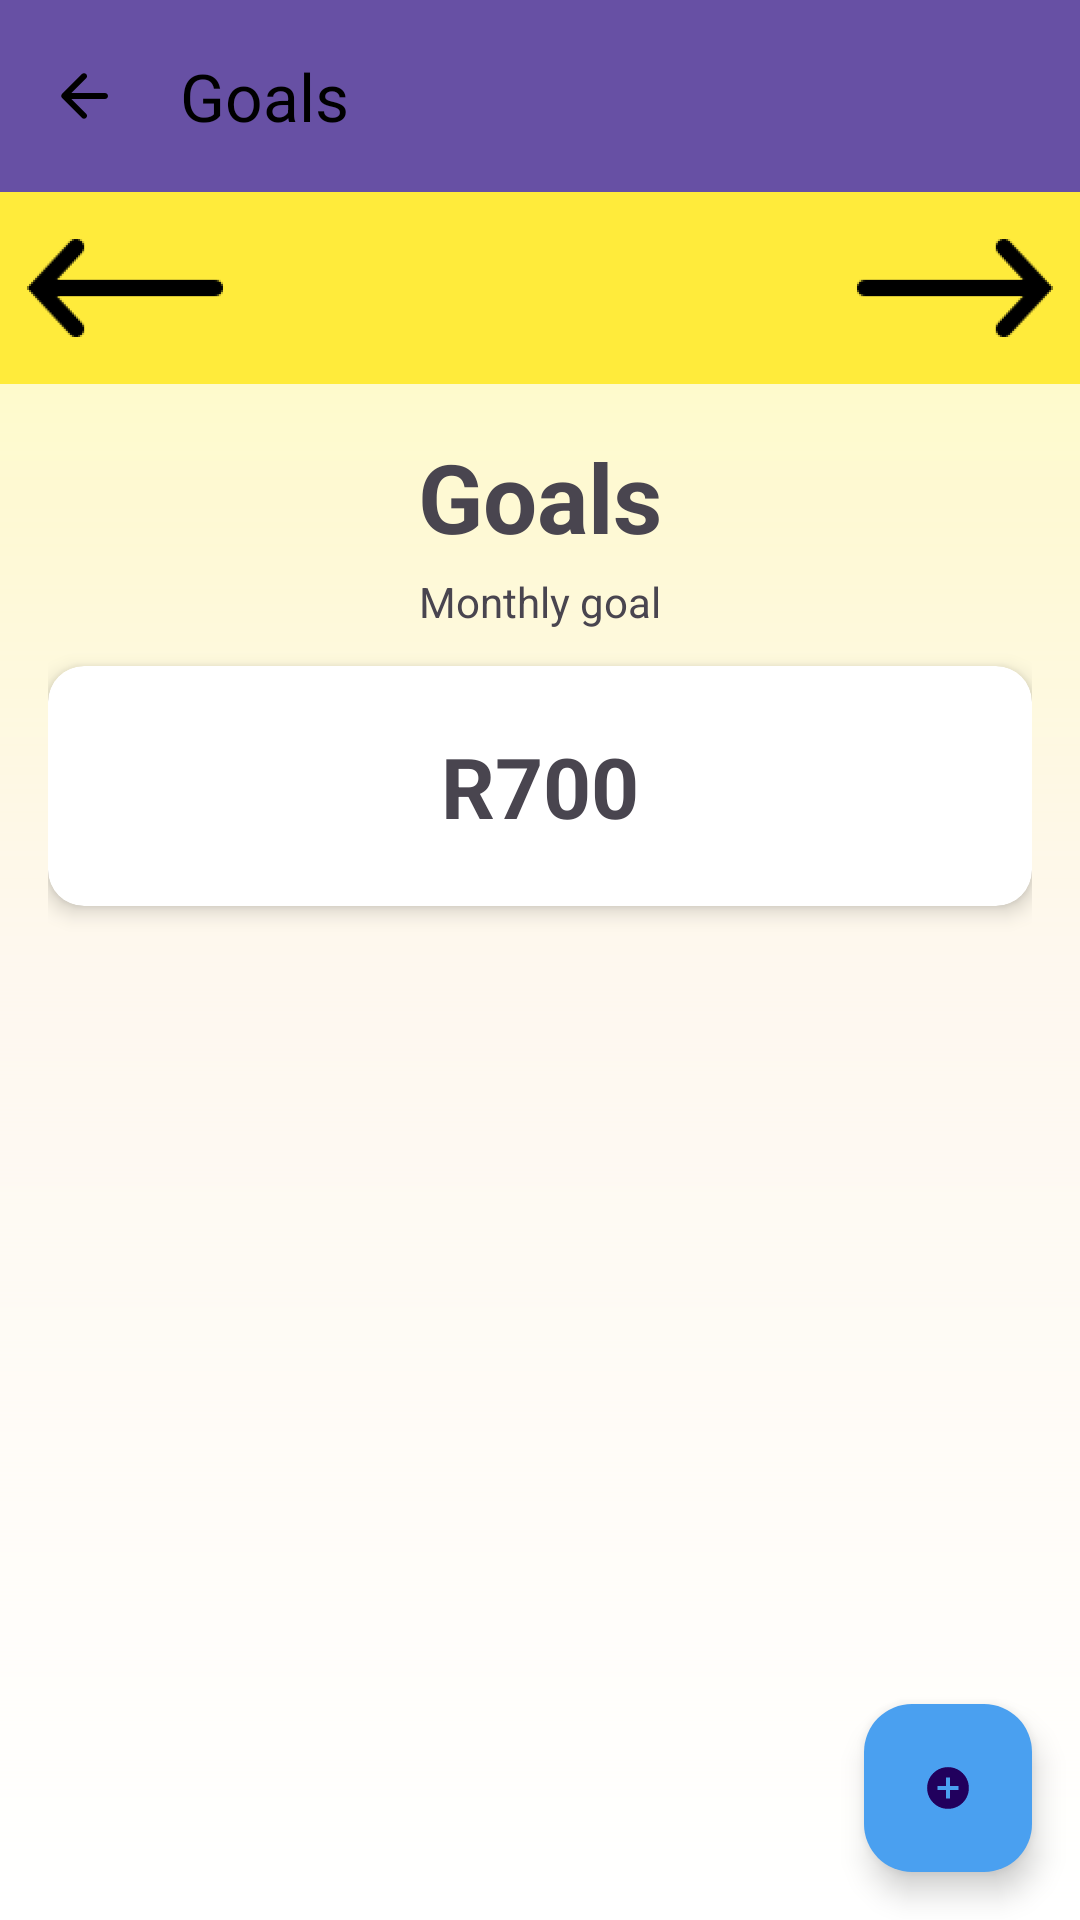

Screen size 1080px×1920px. Icon name, then its box in pixels as Rect(x1, y1, x2, y2):
Add Goal: Rect(864, 1704, 1032, 1872)
Next Month: Rect(857, 239, 1053, 337)
Previous Month: Rect(27, 239, 223, 337)
